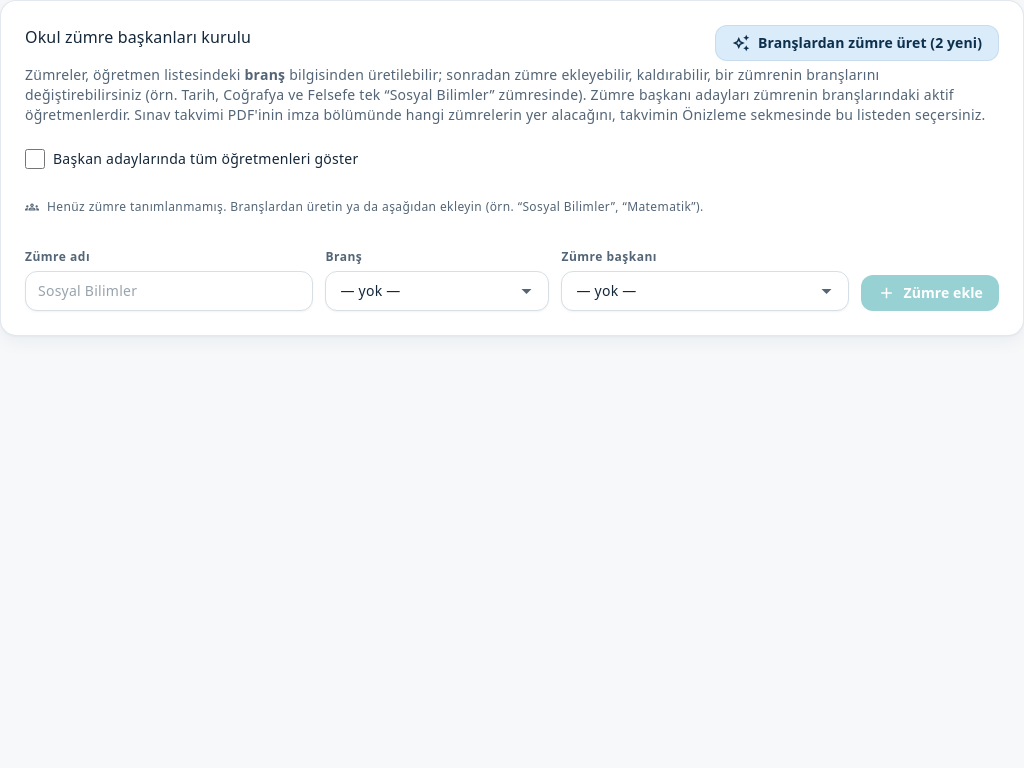
it: ZumrelerPaneli › branşlardan üretim: adaylar durumlarıyla listelenir, seçilenler üretilir
// Düğme kaç YENİ aday olduğunu söyler (branşı zaten zümrede olan sayılmaz).
Click the button "Branşlardan zümre üret (2 yeni)" at (857, 43), box [715,25,999,61]
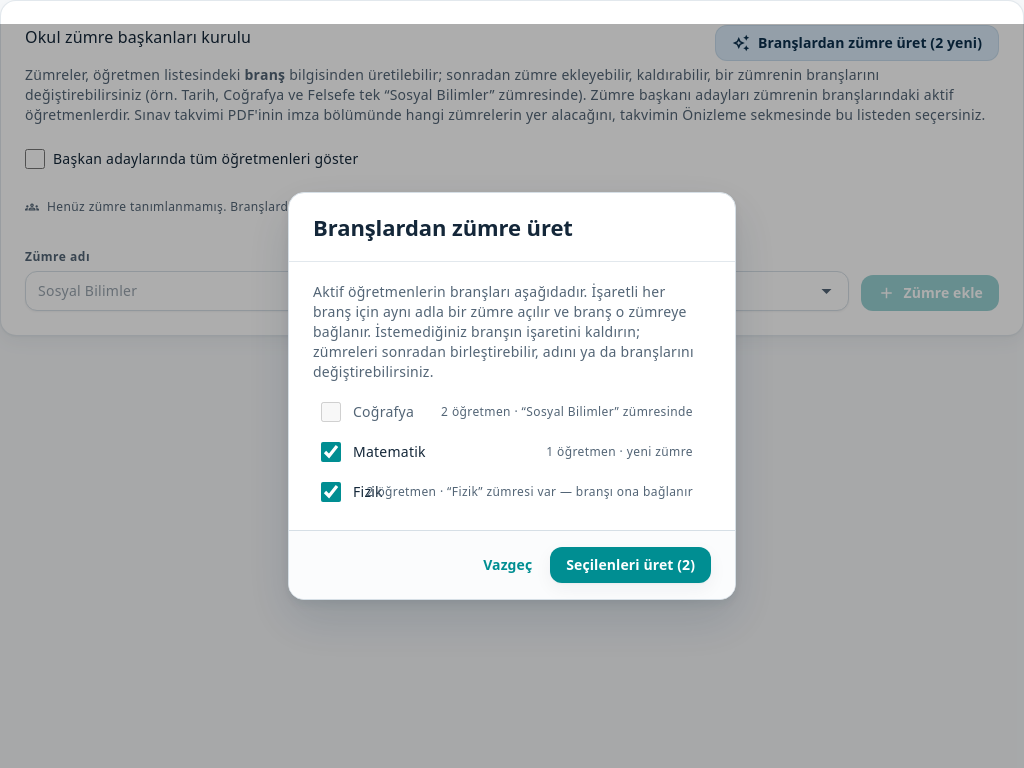
Check: the checkbox labelled "Coğrafya 2 öğretmen · “Sosyal Bilimler” zümresinde" is disabled, box [321,402,341,422]
Check: the checkbox labelled "Coğrafya 2 öğretmen · “Sosyal Bilimler” zümresinde" is not checked, box [321,402,341,422]
Check: the text "2 öğretmen · “Sosyal Bilimler” zümresinde" is shown, box [441,404,693,420]
// İstenmeyen branşın işareti kaldırılır → yalnız kalanlar gönderilir.
Click the checkbox labelled "Fizik 2 öğretmen · “Fizik” zümresi var — branşı ona bağlanır" at (331, 492), box [321,482,341,502]
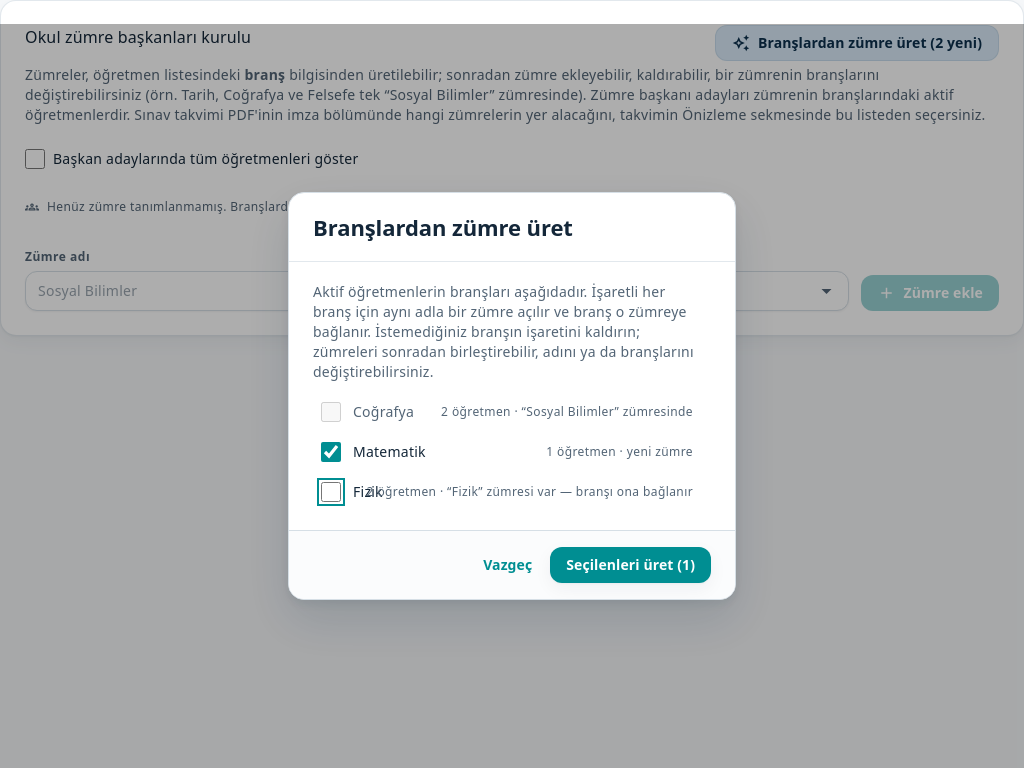
Click the button "Seçilenleri üret (1)" at (631, 565), box [550,547,711,583]
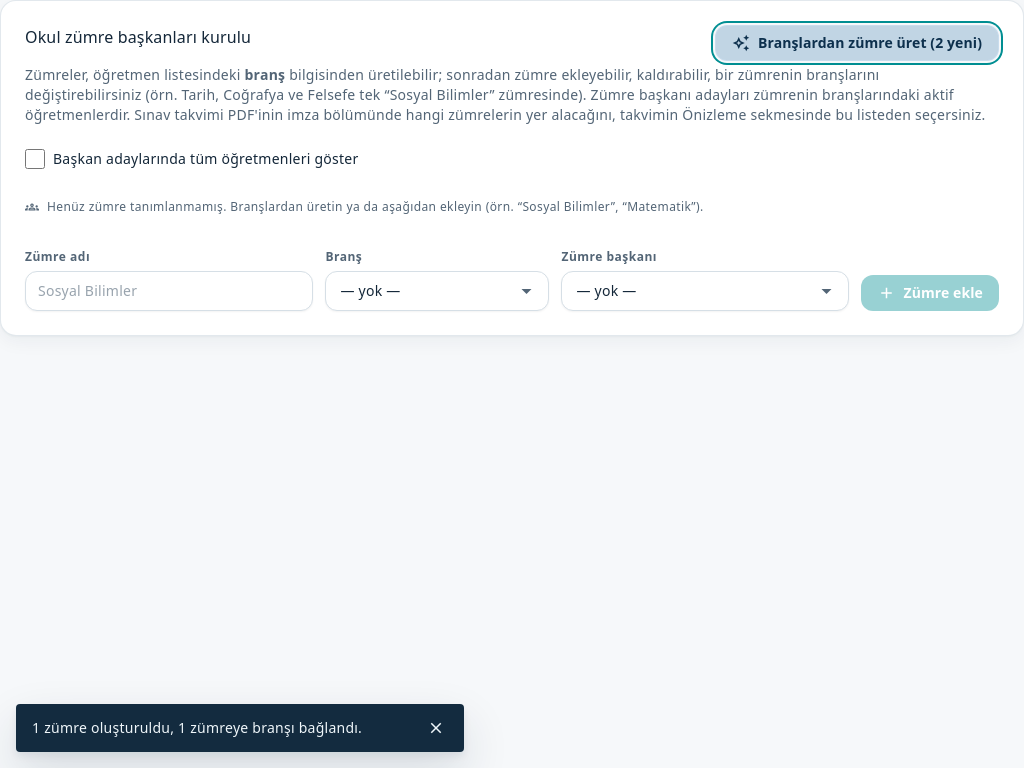
Check: the text "1 zümre oluşturuldu, 1 zümreye branşı bağlandı." is shown, box [32,718,362,737]
